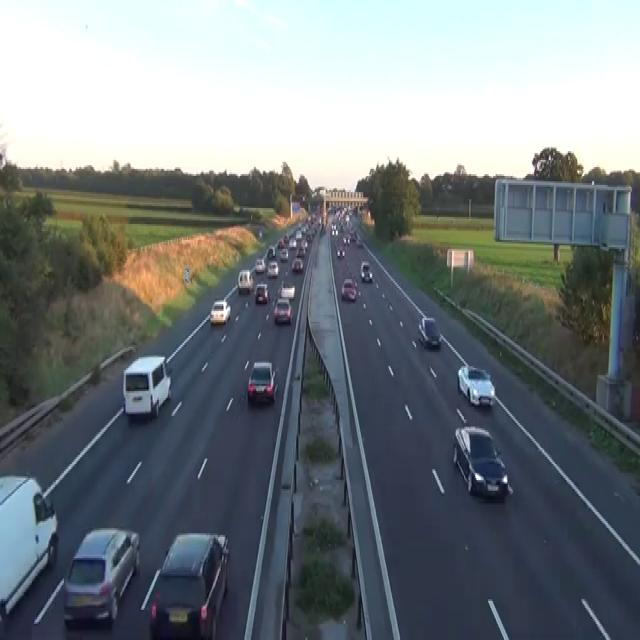Car: (150, 532, 229, 638), (0, 473, 58, 615), (62, 526, 140, 626), (452, 425, 509, 499), (457, 365, 495, 407), (247, 361, 278, 403), (417, 316, 441, 348), (209, 298, 231, 324), (273, 297, 292, 323), (237, 268, 253, 294), (278, 279, 295, 299), (341, 278, 356, 300), (254, 283, 269, 304), (360, 261, 372, 281), (266, 260, 278, 278), (291, 256, 303, 272), (255, 258, 265, 274), (336, 245, 345, 258), (280, 247, 288, 261), (267, 245, 275, 258), (349, 229, 357, 242), (288, 238, 297, 249), (296, 245, 305, 256), (441, 182, 452, 190), (277, 238, 284, 249), (331, 224, 338, 235), (356, 237, 363, 247), (295, 230, 302, 238), (283, 233, 289, 242), (258, 230, 262, 238)
Truck: (122, 354, 171, 419)
